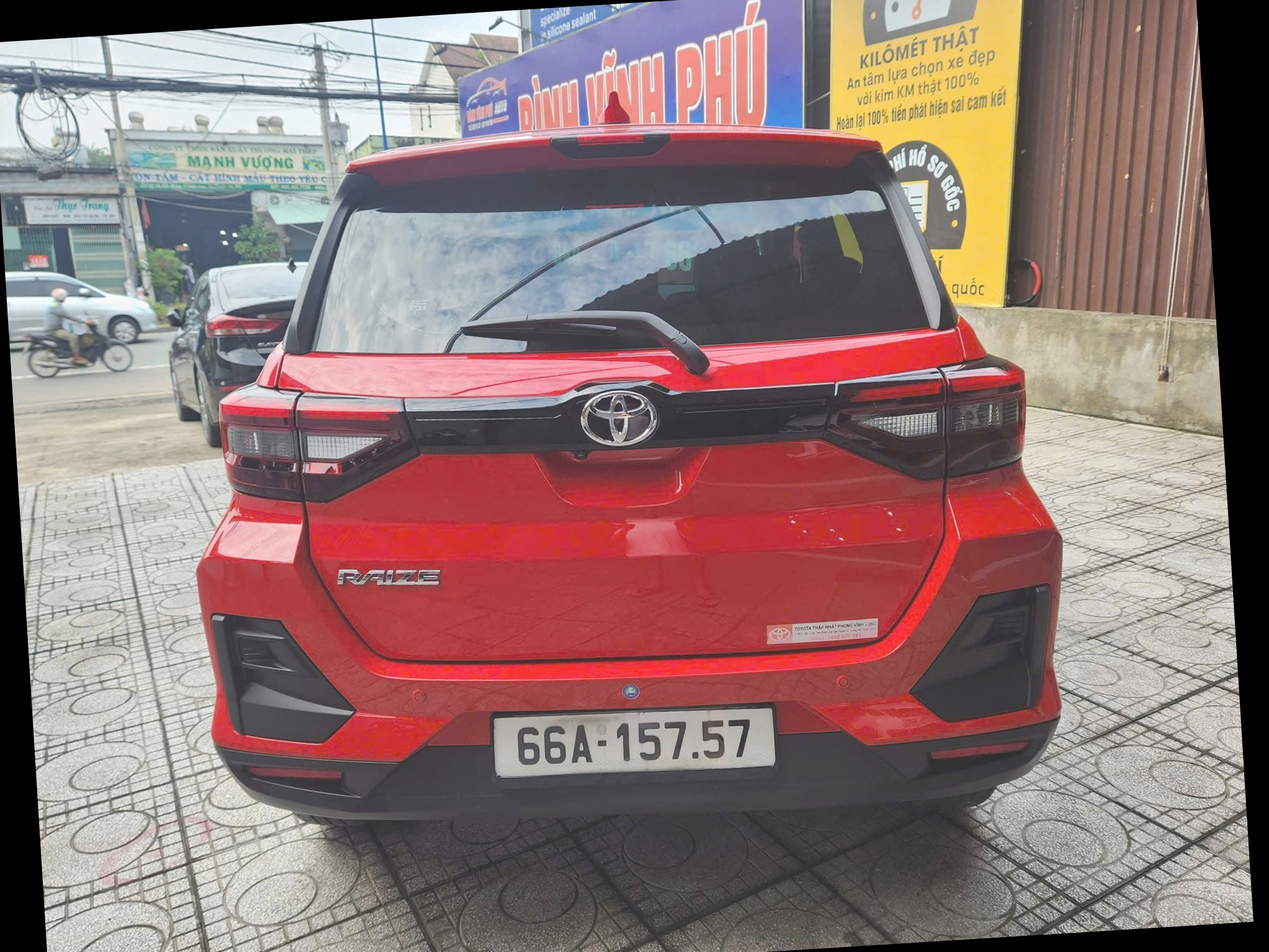Bien-so: (469, 714, 763, 786)
